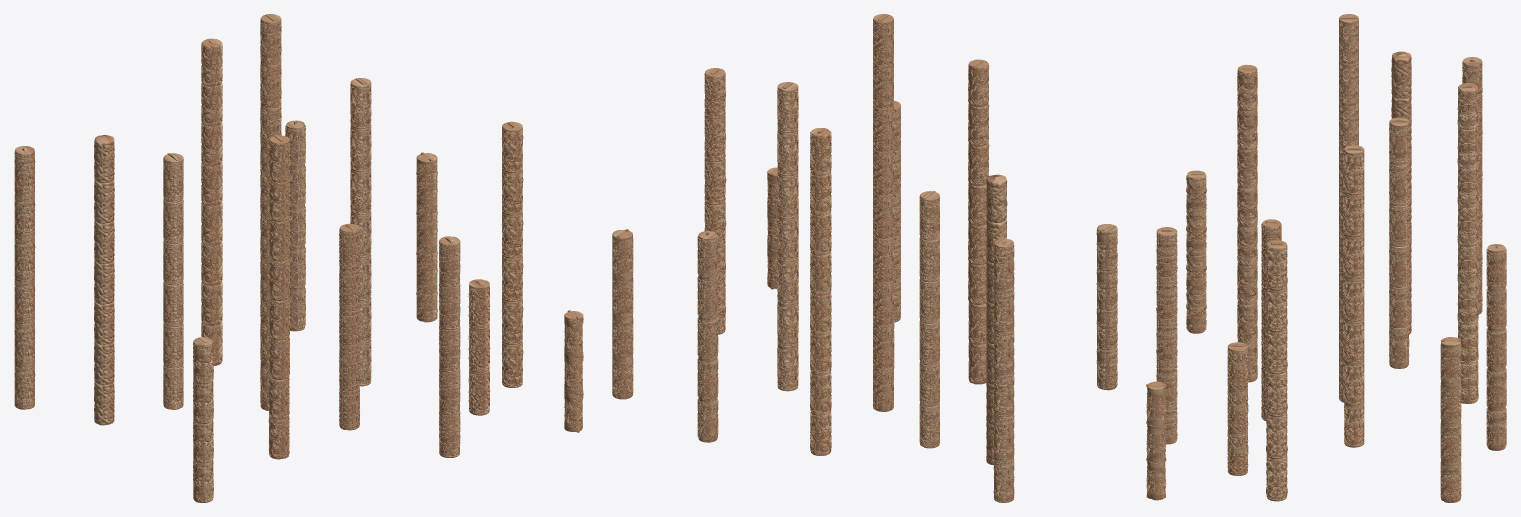
The model's file is project15.glb.
3 renders of one model, left to right at view 1: azimuth 30°, elevation 25°; view 2: azimuth 150°, elevation 25°; view 3: azimuth 270°, elevation 25°, orthographic. The views are drawn at different scales.
Parts seen in each view (by area): view 1: node_0.003; view 2: node_0.003; view 3: node_0.003.
Boxes of the visible parts, x1,y1,x2,y2 form: node_0.003: (14,14,583,502); node_0.003: (612,14,1117,502); node_0.003: (1146,14,1506,502).
Size of the model in its own units: 6.83 by 6.21 by 5.32.
1 material, 1 textured.
